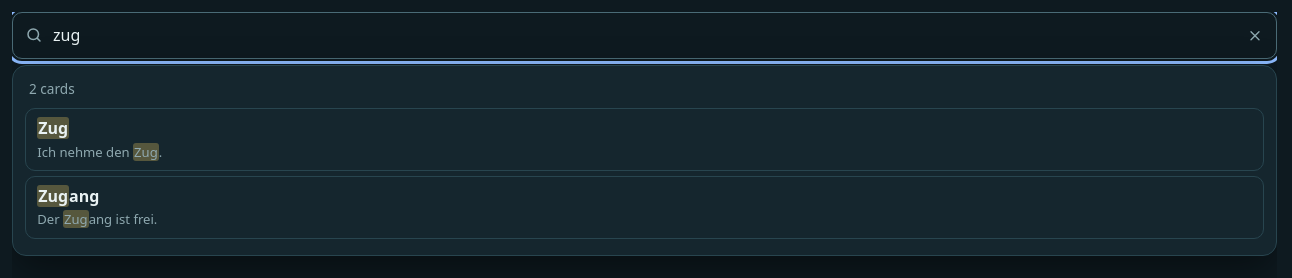
Test: a card of the panel puts its word in the search
Click the button with class "search-row" showing "Zugang Der Zugang ist frei.".
click(53, 196)  # box [25,176,1264,239]
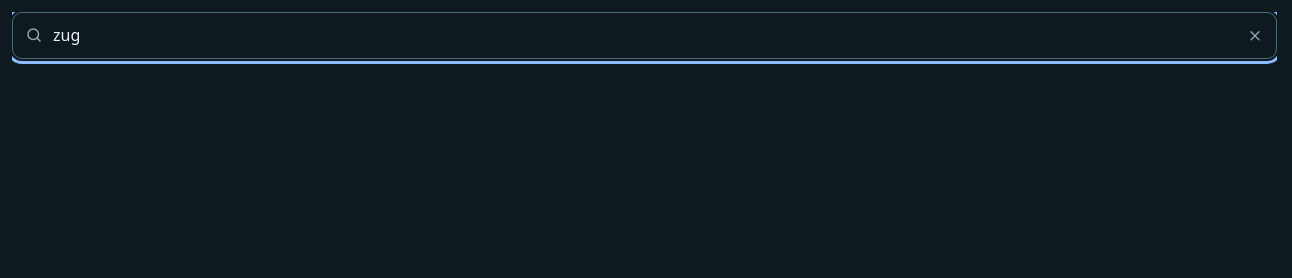
expect the element with class "search-panel" is gone: met
